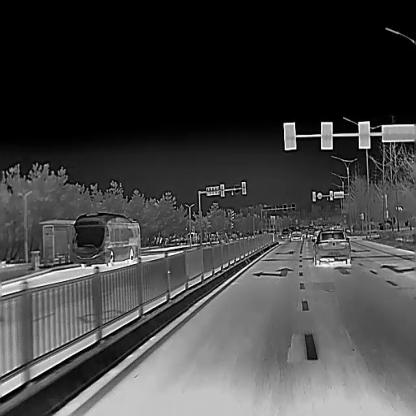bus: (73, 210, 140, 264)
car: (312, 229, 350, 264), (291, 227, 302, 239), (280, 227, 288, 238), (314, 226, 322, 237), (307, 226, 314, 236)
